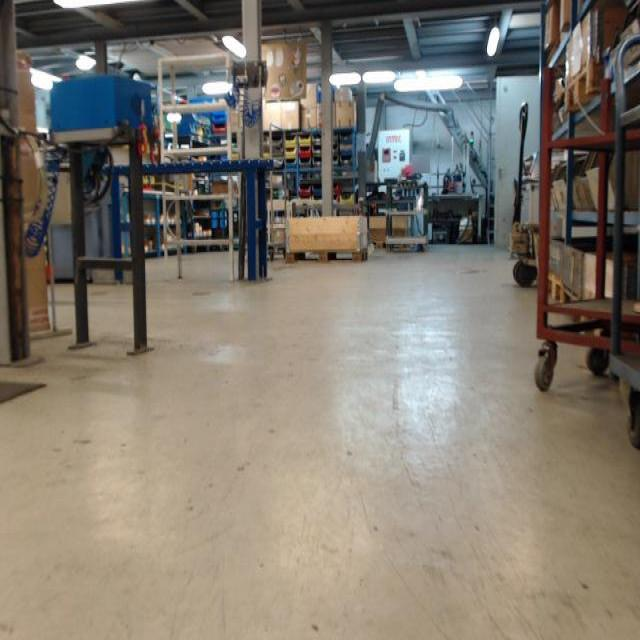pallet: (562, 55, 604, 117), (284, 242, 369, 265), (546, 271, 564, 305)
pallet_truck: (503, 101, 539, 288)
